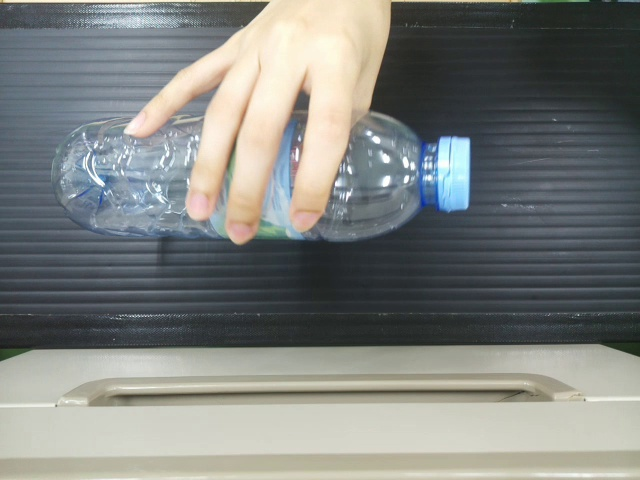bottle: (51, 108, 200, 235), (339, 103, 470, 246)
